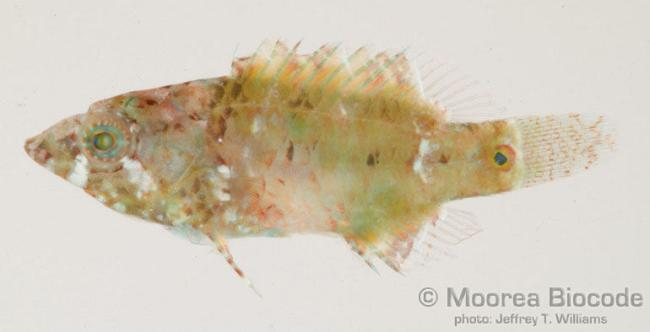fish: (22, 37, 616, 292)
